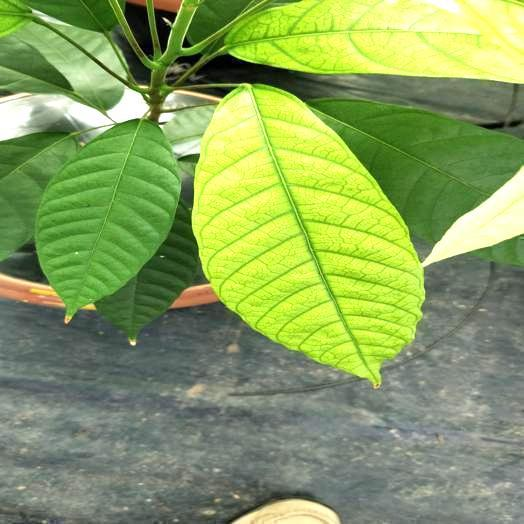Healthy Leaf: (309, 98, 523, 243), (35, 119, 180, 316), (95, 202, 197, 344), (0, 133, 77, 259), (14, 24, 122, 109), (1, 34, 75, 95), (52, 23, 123, 75), (474, 235, 523, 266)
Iron: (193, 85, 424, 384), (226, 0, 523, 83)
